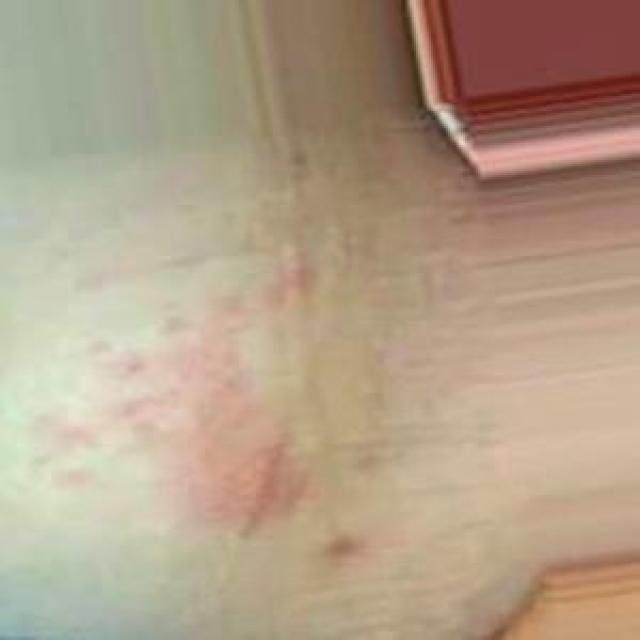Shingles: (23, 278, 306, 536)
